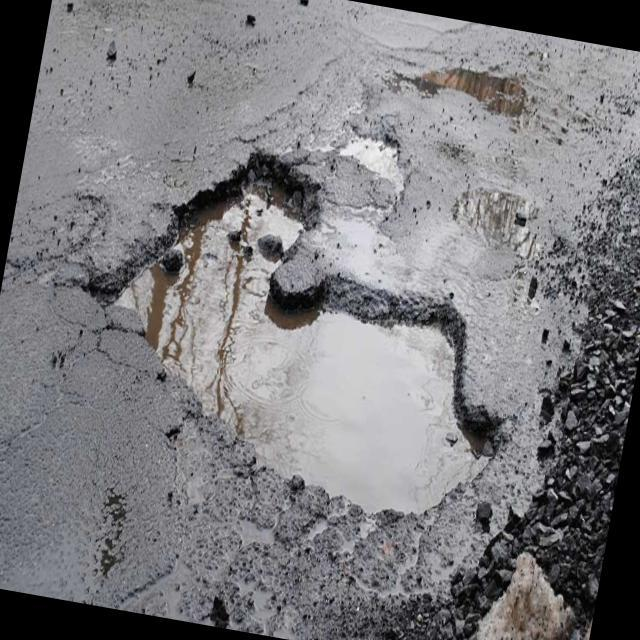Pothole: (32, 62, 577, 574), (428, 140, 574, 312), (378, 15, 550, 152), (314, 91, 428, 231)
